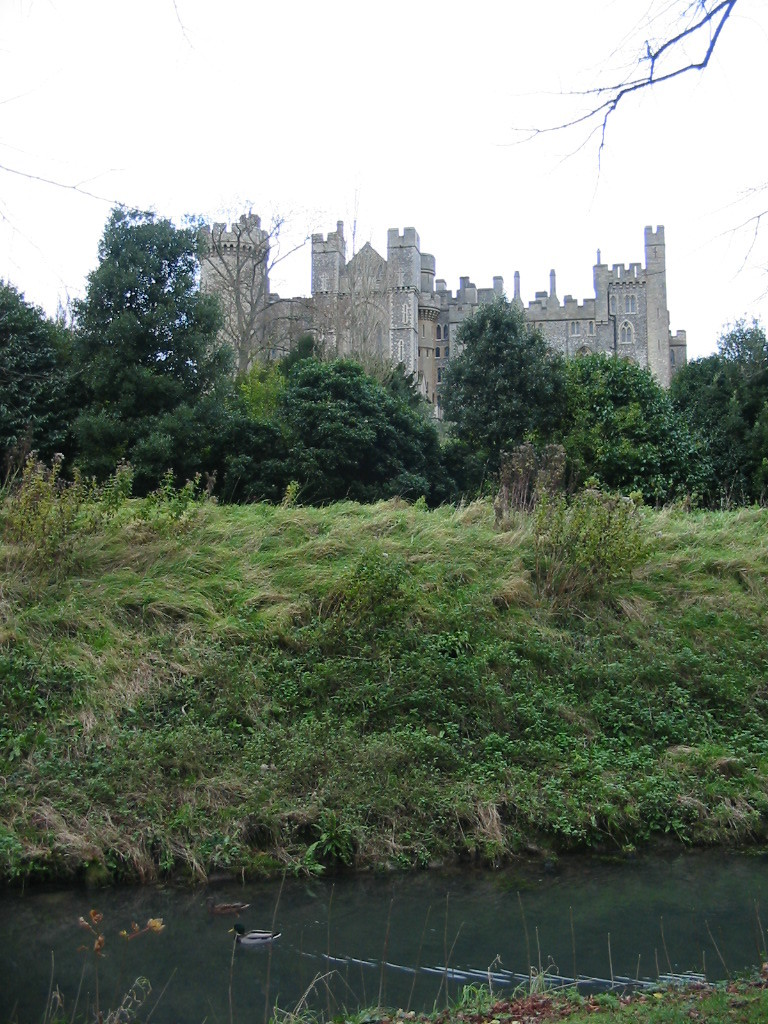Tree: (55, 172, 268, 522), (275, 327, 451, 517), (561, 348, 704, 508), (448, 298, 567, 478), (658, 316, 767, 508), (0, 277, 68, 490)
